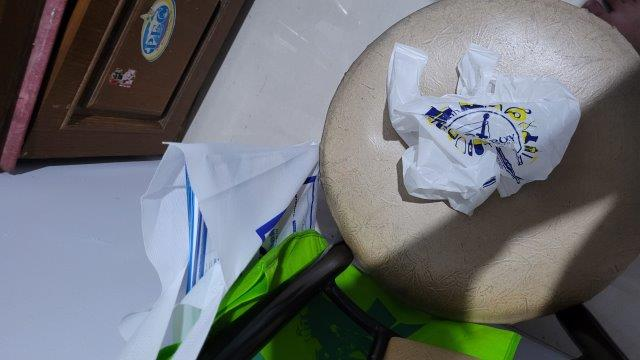plastik: (385, 44, 582, 218)
